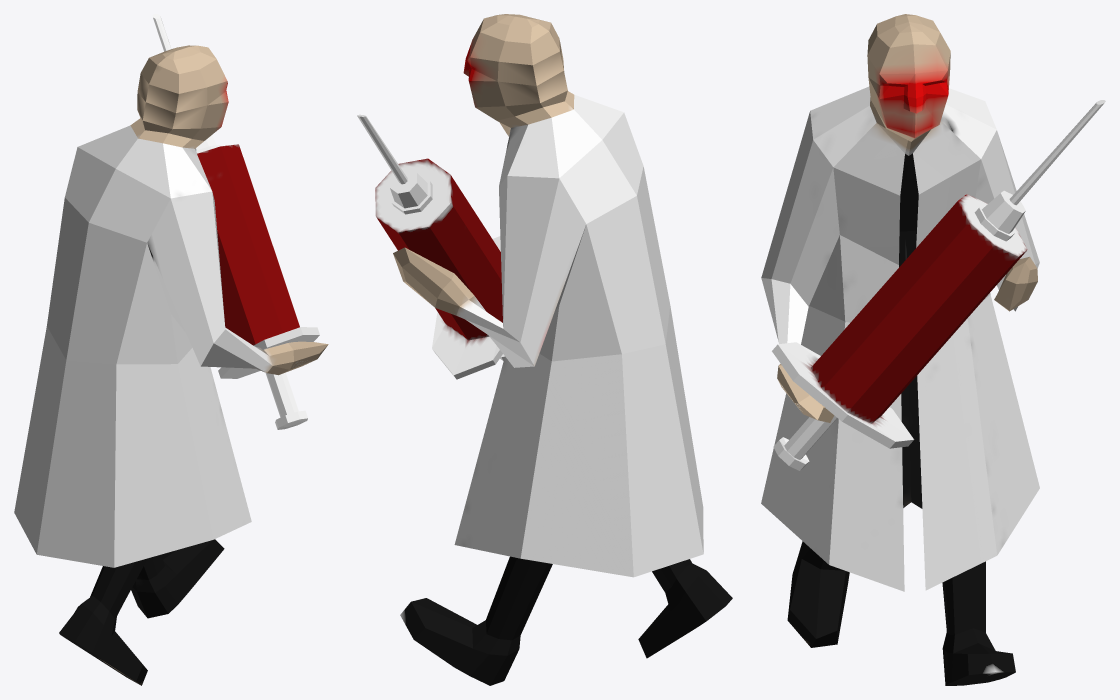
File: Scientist.fbx
3 views of the same model, side by side, from view 1: azimuth 30°, elevation 25°; view 2: azimuth 150°, elevation 25°; view 3: azimuth 270°, elevation 25° (orthographic). The views are drawn at different scales.
Parts seen in each view (by area): view 1: Scientist.001, Syringe; view 2: Scientist.001, Syringe; view 3: Scientist.001, Syringe.
Part boxes in pixels (x1=…): Scientist.001: x1=14, y1=45, x2=328, y2=685; Syringe: x1=152, y1=14, x2=319, y2=429; Scientist.001: x1=393, y1=14, x2=732, y2=685; Syringe: x1=357, y1=114, x2=504, y2=379; Scientist.001: x1=761, y1=14, x2=1039, y2=685; Syringe: x1=772, y1=100, x2=1105, y2=470.
Bounding box in the file's own units: 69.21 × 149 × 69.26.
